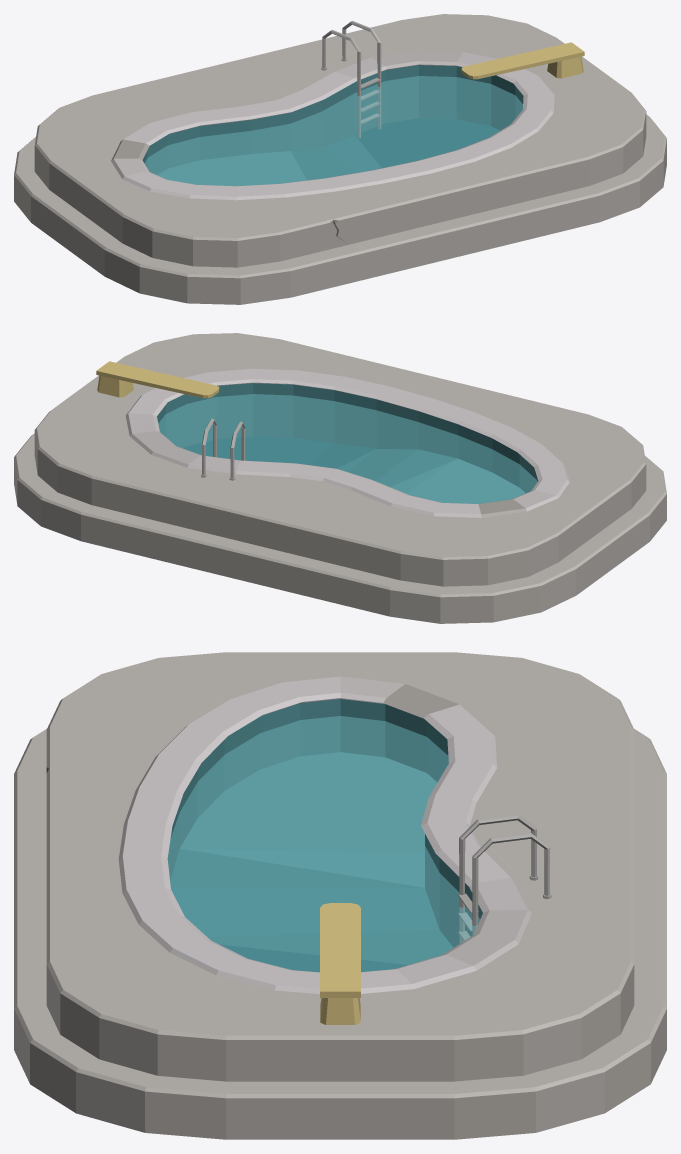
The model's file is kidney-pool-605197.glb.
3 renders of one model, top to bottom at view 1: azimuth 30°, elevation 25°; view 2: azimuth 150°, elevation 25°; view 3: azimuth 270°, elevation 25°, orthographic. The views are drawn at different scales.
Visible parts, largest first — view 1: pool, water; view 2: pool, water; view 3: pool, water.
Part boxes in pixels (x1,y1,x2,y2): pool: [14, 14, 666, 304]; water: [144, 76, 522, 186]; pool: [14, 333, 666, 623]; water: [158, 394, 536, 503]; pool: [14, 652, 666, 1139]; water: [167, 716, 479, 972].
Bounding box in the file's own units: 12 × 2.09 × 8.
